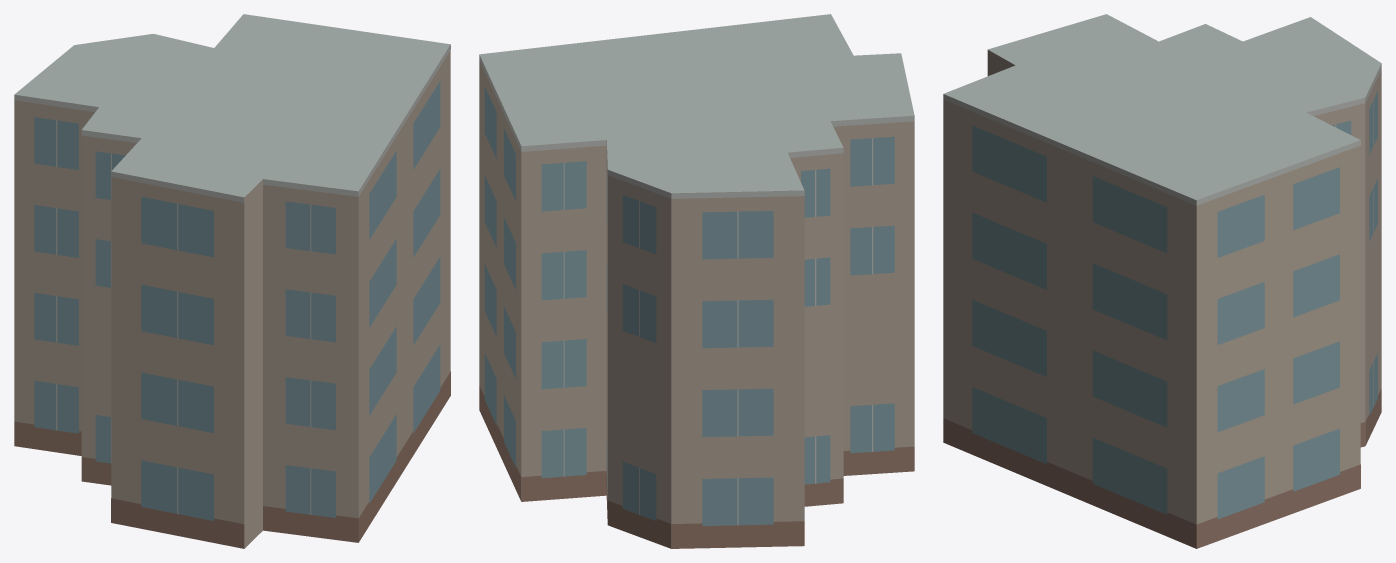
File: survey-upis-32712631.glb
The picture shows the model from 3 angles, left to right: view 1: azimuth 30°, elevation 25°; view 2: azimuth 150°, elevation 25°; view 3: azimuth 270°, elevation 25°; orthographic projection.
Visible parts, largest first — view 1: survey-upis-32712631.tmp; view 2: survey-upis-32712631.tmp; view 3: survey-upis-32712631.tmp.
Boxes of the visible parts, bbox=[...] form: survey-upis-32712631.tmp: bbox=[14, 14, 450, 548]; survey-upis-32712631.tmp: bbox=[479, 14, 914, 548]; survey-upis-32712631.tmp: bbox=[943, 14, 1381, 548].
Size of the model in its own units: 17.75 by 15.48 by 17.65.
